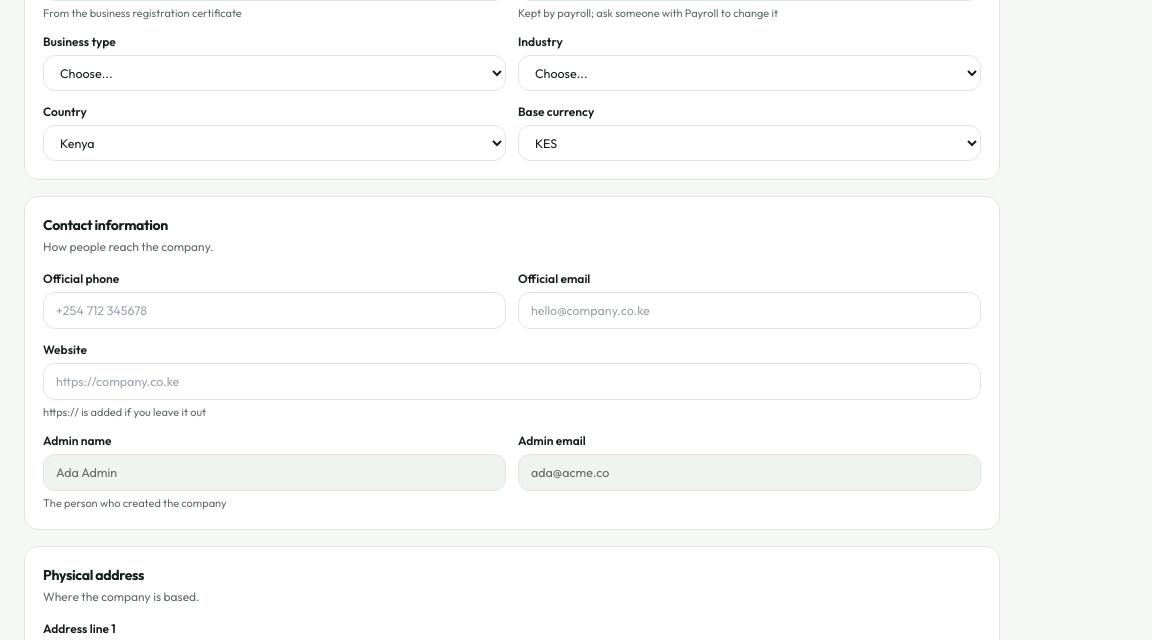
Test: Company profile page › says what is wrong and will not save it
The image size is (1152, 640).
(page scrolled)
Type "not-an-email" into the field labelled "Official email" at (750, 310), box [518,292,981,329]
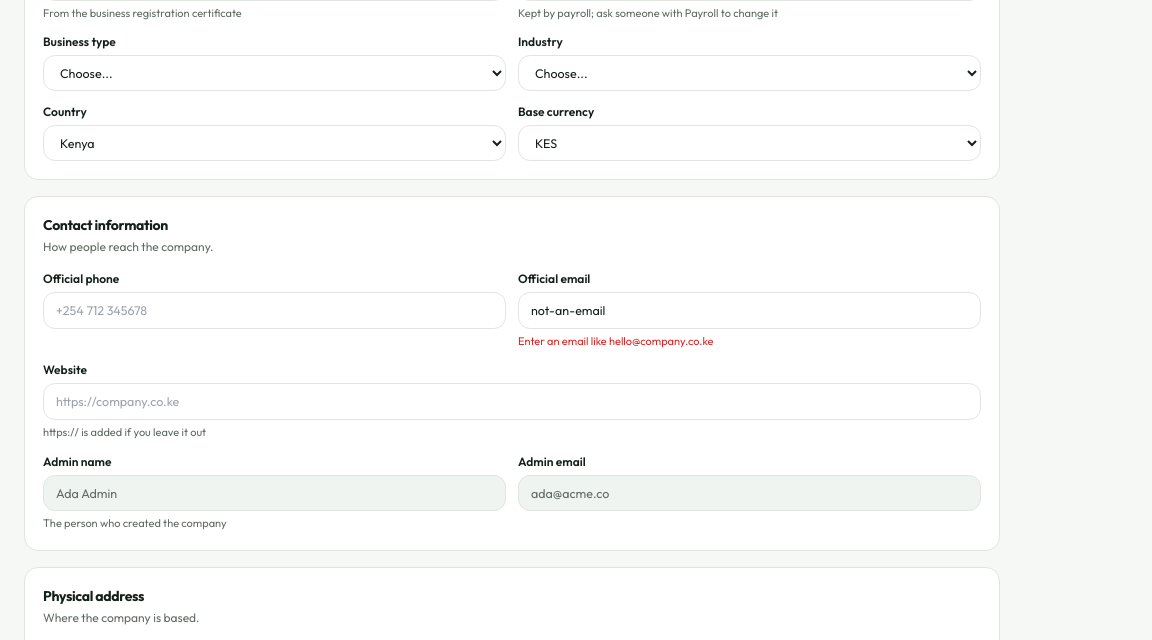
Type "call me" into the field labelled "Official phone" at (274, 310), box [43,292,506,329]
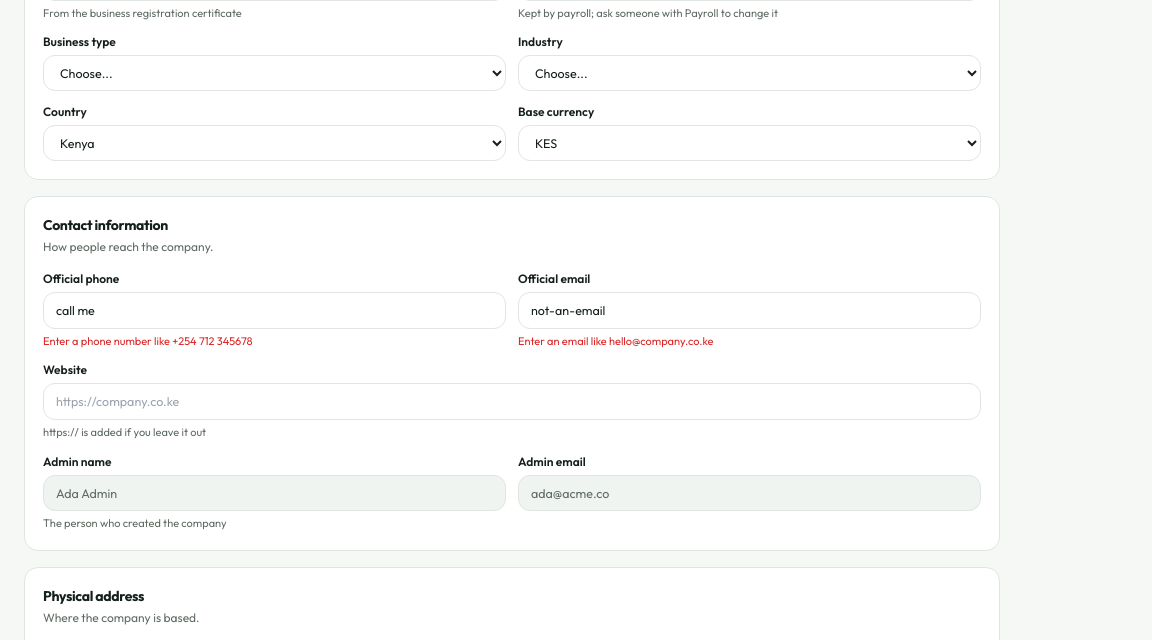
Type "nope" into the field labelled "Website https:// is added if you leave it out" at (512, 402), box [43,383,981,420]
(page scrolled)
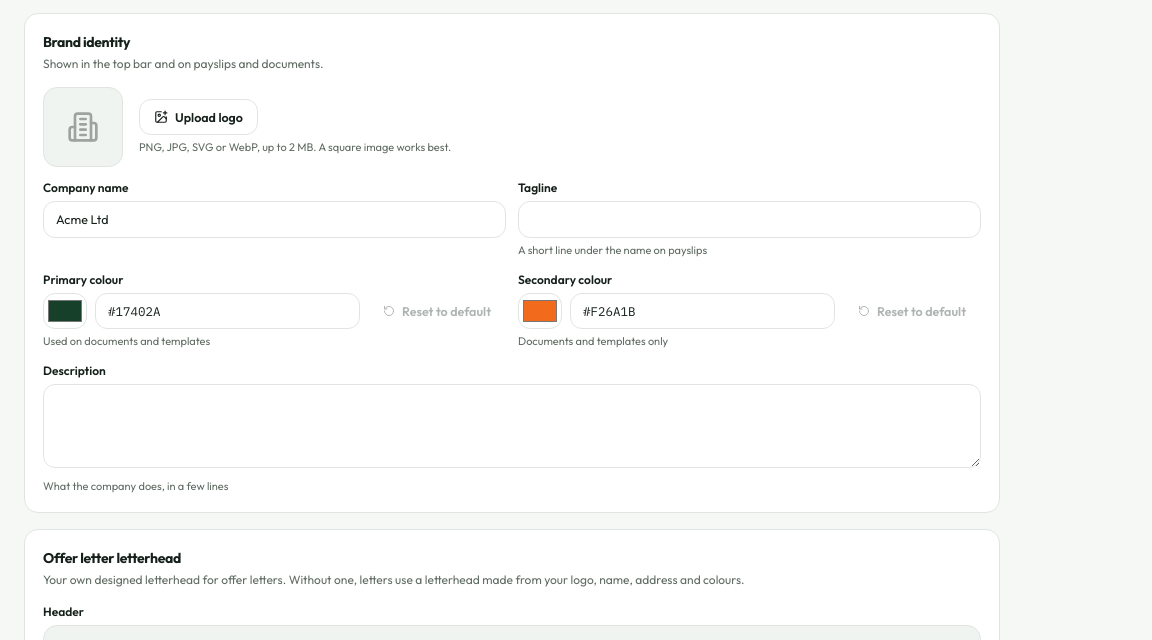
Replace the text in the field named "Primary colour hex" with "#12" at (228, 311), box [95,292,360,329]
(page scrolled)
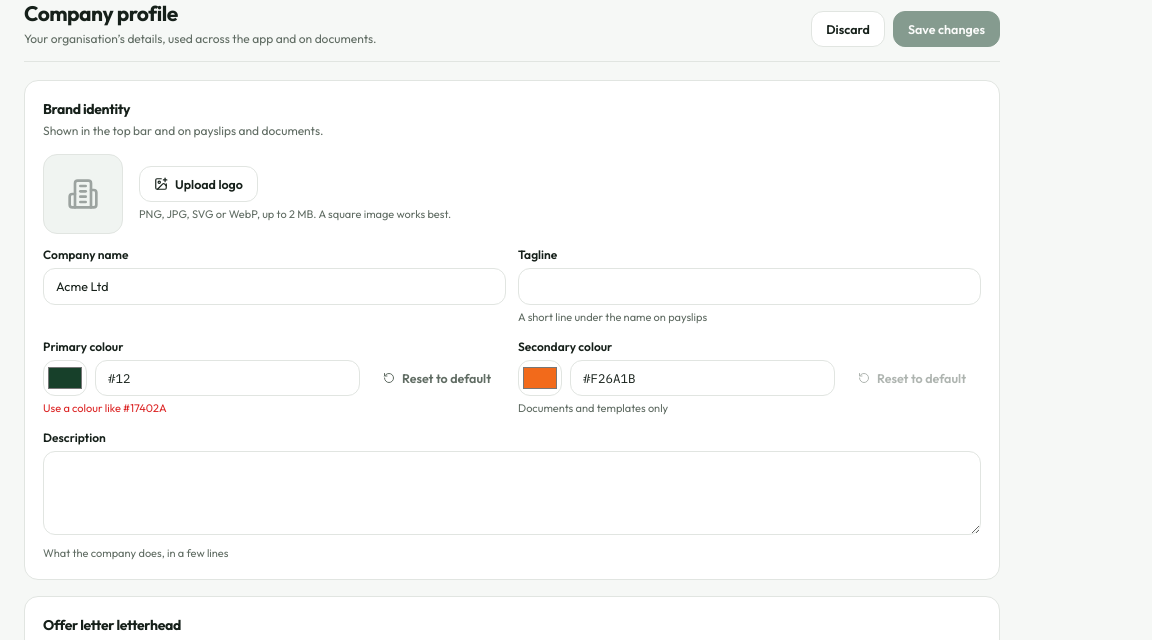
Expected: the button "Save changes" is disabled, [893,10,1000,47]
Expected: the text "Use a colour like #17402A" is shown, [43,401,167,415]
